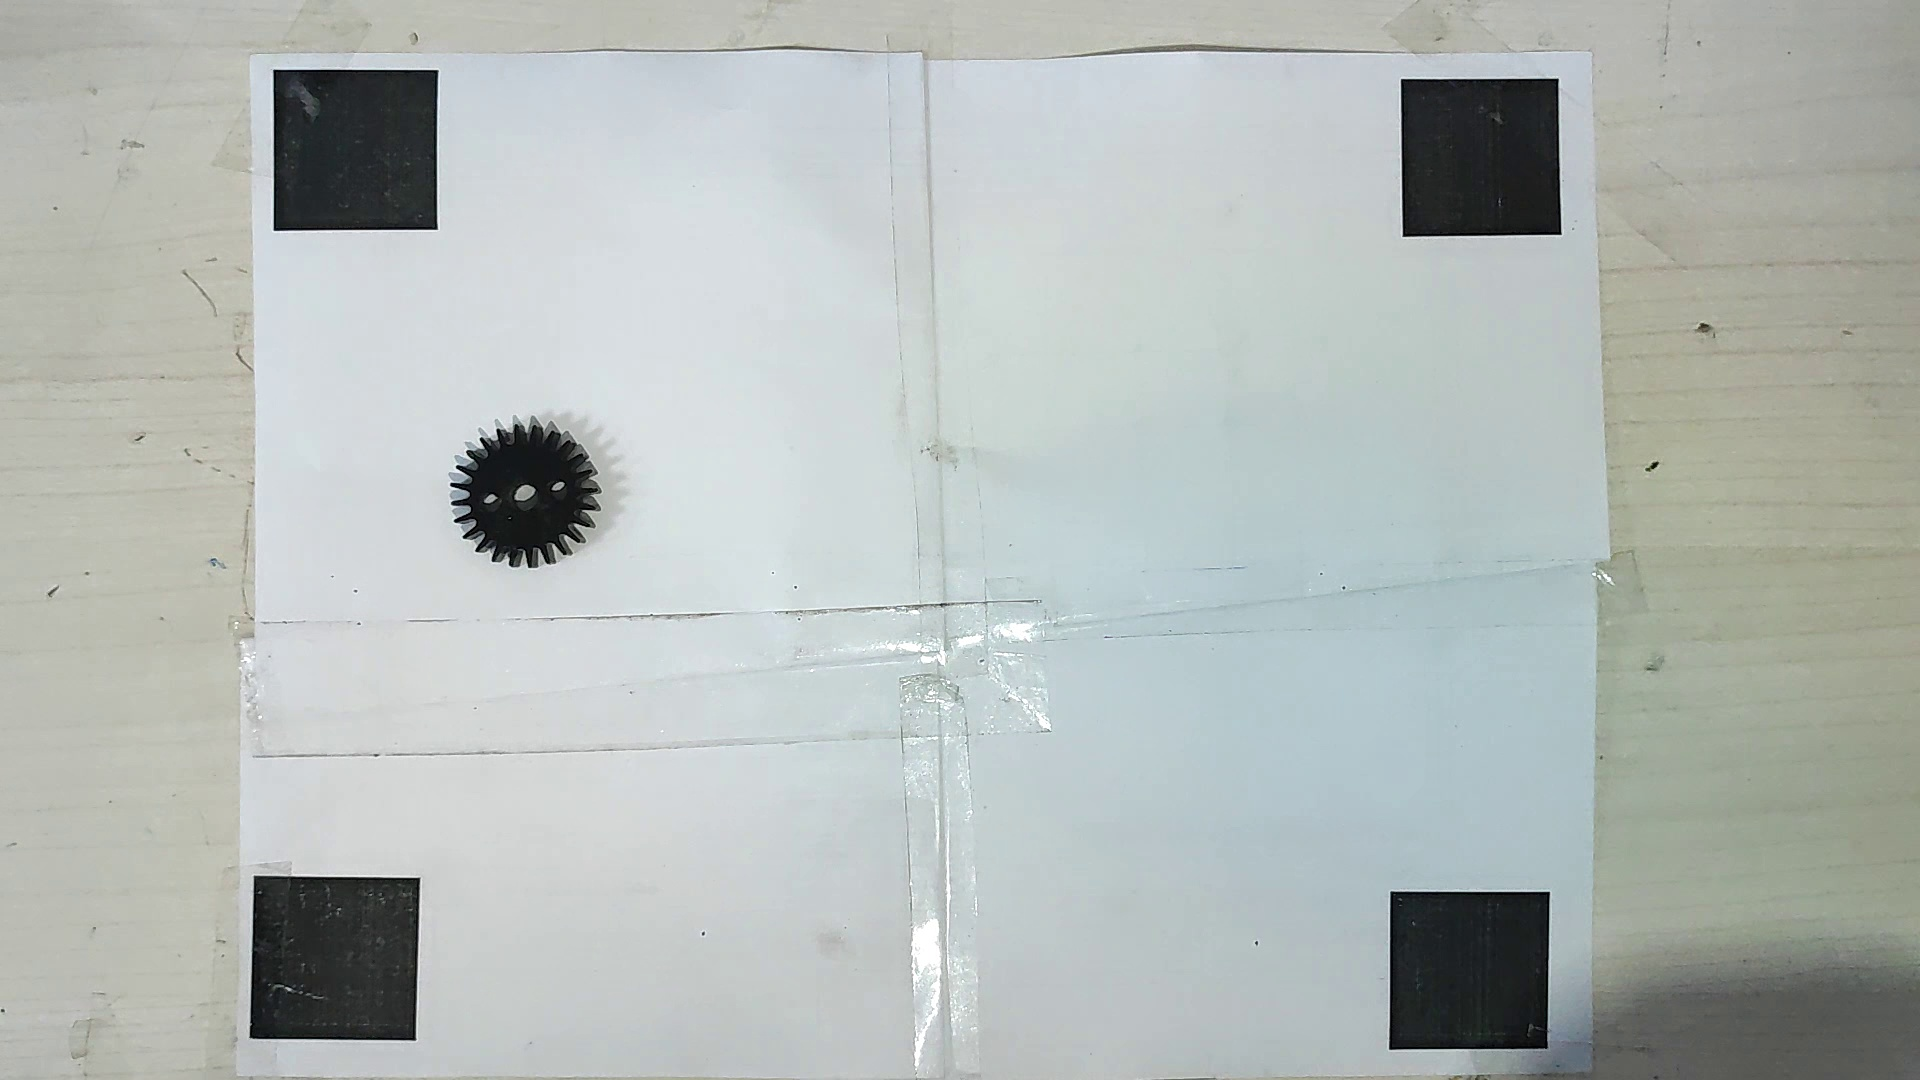Gear: (451, 415, 599, 576)
